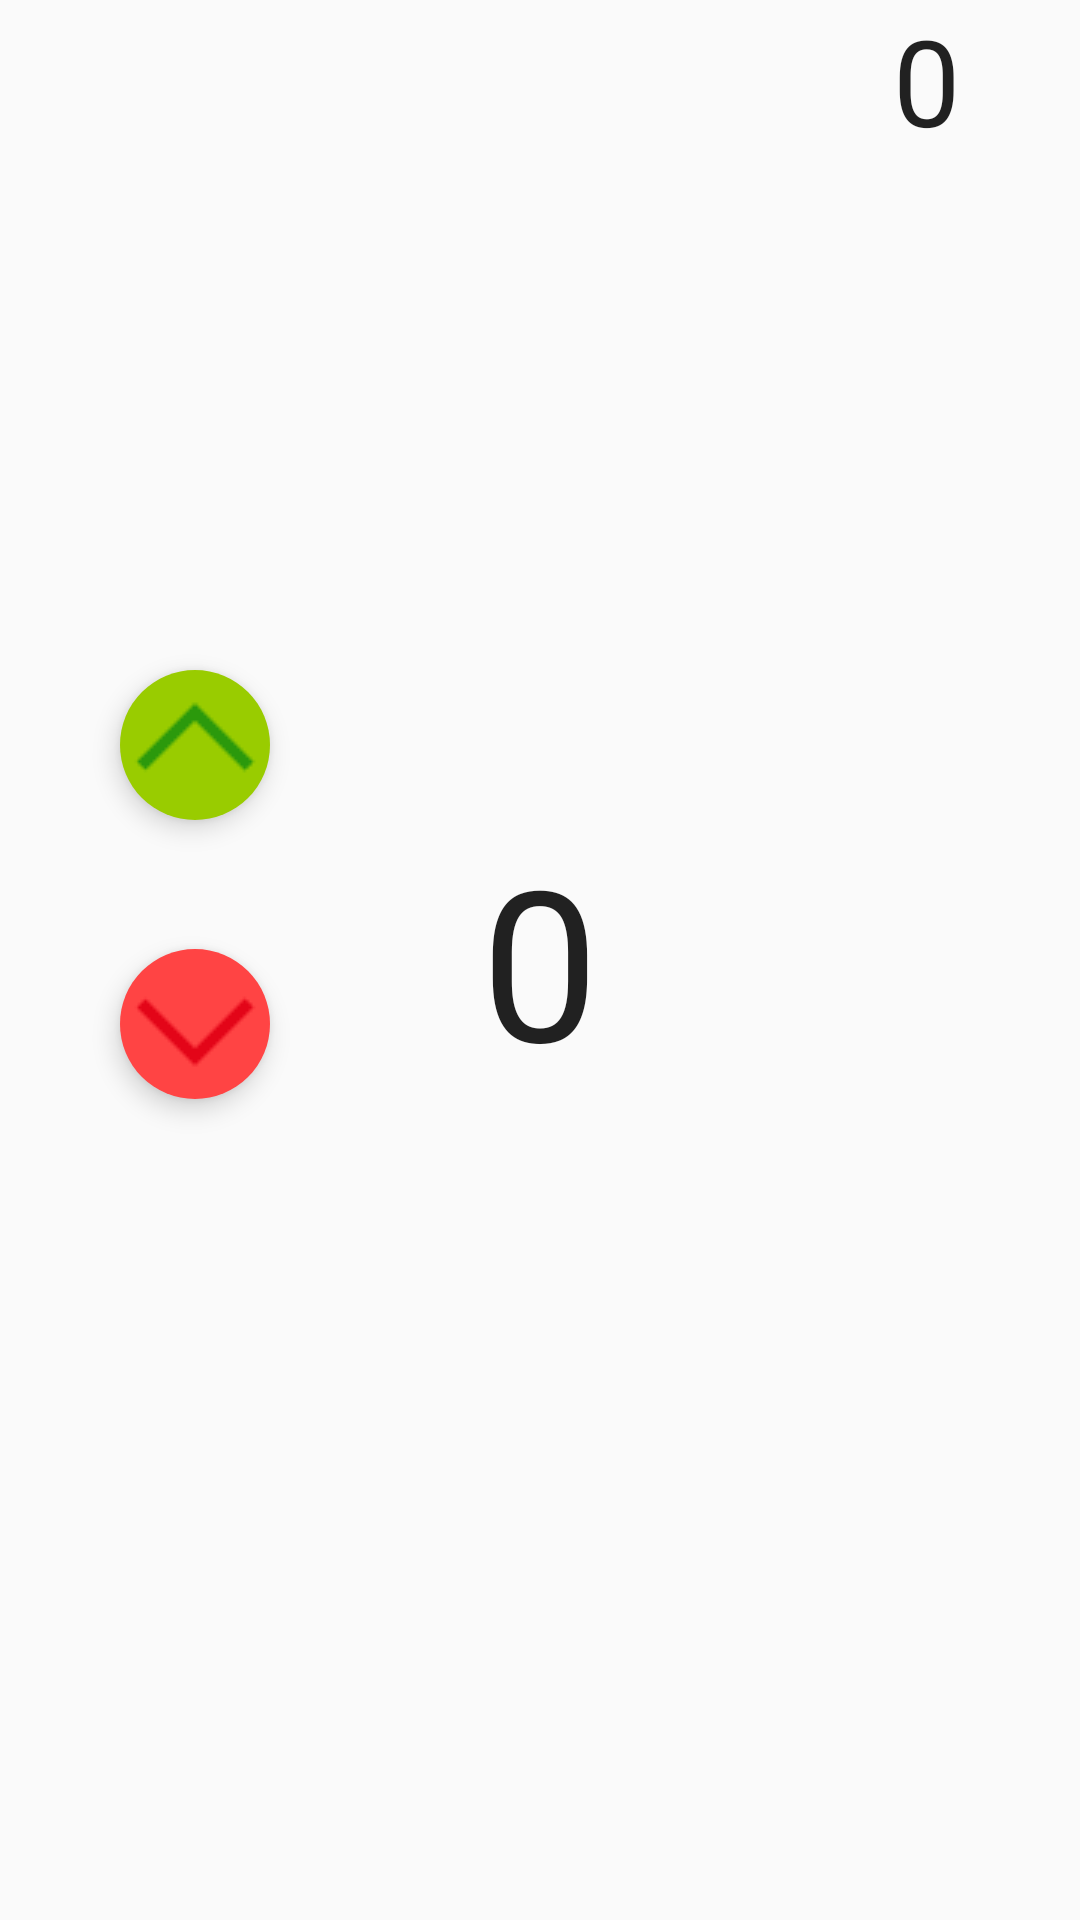

Icons on this 1080×1920 Android screen, each with its box as {"left": x1, "top": y1, "right": x2, "bottom": y2}:
bajarpunto: {"left": 120, "top": 949, "right": 270, "bottom": 1099}
subirpunto: {"left": 120, "top": 670, "right": 270, "bottom": 820}
